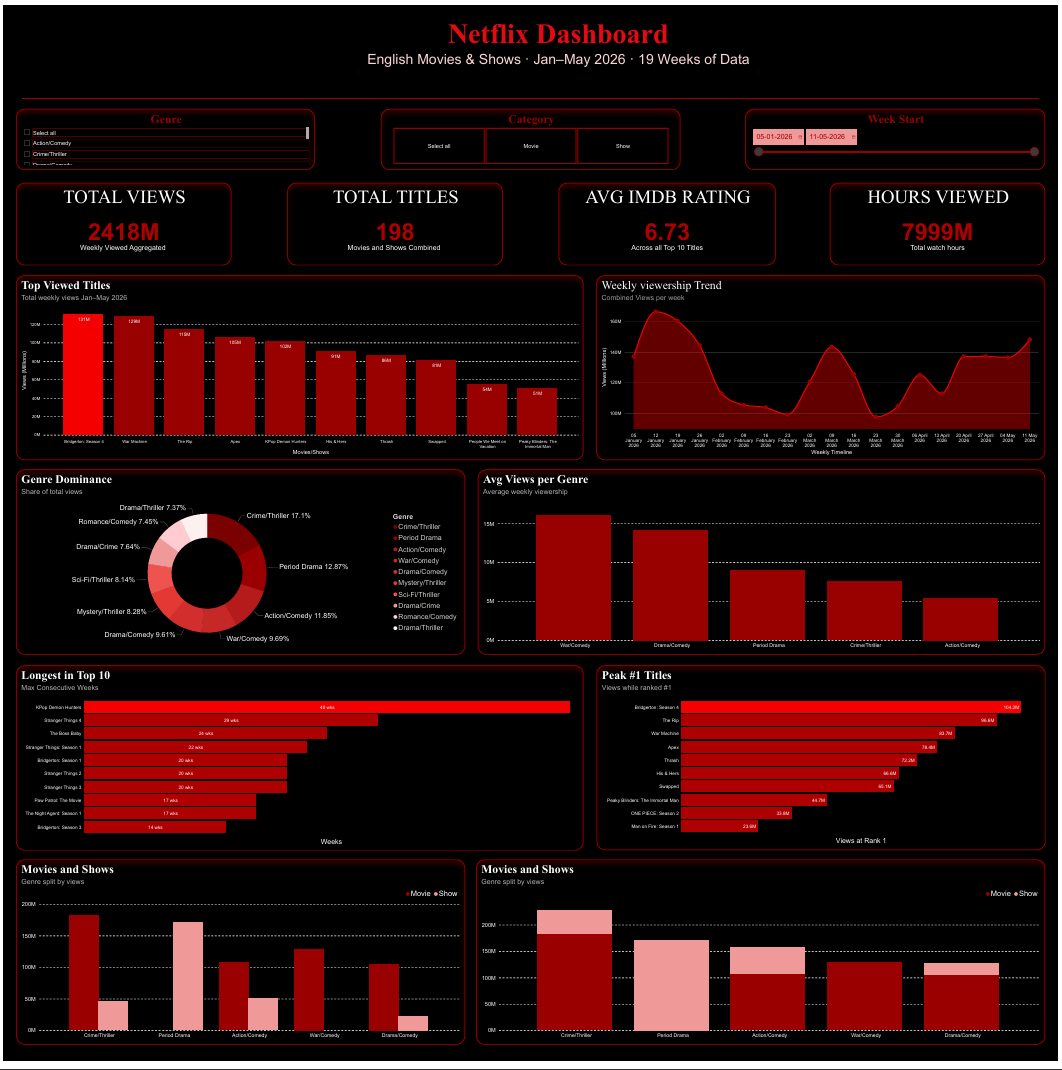

What the dashboard file says about the page in this screenshot:
{"tool":"powerbi","page":{"name":"Page 1","canvas":[3000,3000],"ordinal":0},"visuals":[{"type":"columnChart","title":"Top Viewed Titles ","fields":{"Category":["Table 1 (Pivot_Table).Row Labels"],"Y":["Sum(Table 1 (Pivot_Table).Sum of Weekly_Viewed)"]},"box":[35.8,766.9,1615.6,526.6],"z":0},{"type":"lineChart","title":"Weekly viewership Trend","fields":{"Y":["Sum(Master_Data.Weekly_Viewed)"],"Category":["Master_Data.Week_Start"]},"box":[1687.1,766.9,1278.1,526.6],"z":1000},{"type":"card","title":"TOTAL VIEWS","fields":{"Values":["Sum(Master_Data.Weekly_Viewed)"]},"box":[35.8,503.7,613.5,235.2],"z":2000},{"type":"card","title":"TOTAL TITLES","fields":{"Values":["Count(Master_Data.Title)"]},"box":[807.8,503.7,613.5,235.2],"z":3000},{"type":"card","title":"AVG IMDB RATING","fields":{"Values":["Avg(Master_Data.Imdb_Rating)"]},"box":[1579.8,503.7,618.6,235.2],"z":4000},{"type":"card","title":"HOURS VIEWED","fields":{"Values":["Sum(Master_Data.Hours_Viewed)"]},"box":[2351.8,503.7,613.5,235.2],"z":5000},{"type":"barChart","title":"Longest in Top 10","fields":{"Category":["Table 2 (Pivot_Table).Row Labels"],"Y":["Sum(Table 2 (Pivot_Table).Max of Weeks_In_Top10)"]},"box":[35.8,1876.3,1615.6,526.6],"z":6000},{"type":"barChart","title":"Peak #1 Titles","fields":{"Y":["Master_Data.Views At Rank 1"],"Category":["Master_Data.Title"]},"box":[1688,1876,1278,526],"z":7000},{"type":"slicer","title":"Category ","fields":{"Values":["Master_Data.Category"]},"box":[1073.6,294.1,853.8,173.8],"z":8000},{"type":"columnChart","title":"Movies and Shows","fields":{"Category":["Master_Data.Genre"],"Y":["Sum(Master_Data.Weekly_Viewed)"],"Series":["Master_Data.Category"]},"box":[1344.6,2428.4,1620.7,526.6],"z":9000},{"type":"columnChart","title":"Avg Views per Genre","fields":{"Category":["Master_Data.Genre"],"Y":["Avg(Master_Data.Weekly_Viewed)"]},"box":[1349.7,1319,1615.6,526.6],"z":10000},{"type":"clusteredColumnChart","title":"Movies and Shows","fields":{"Category":["Master_Data.Genre"],"Y":["Sum(Master_Data.Weekly_Viewed)"],"Series":["Master_Data.Category"]},"box":[35.8,2428.4,1278.1,526.6],"z":11000},{"type":"slicer","title":"Genre","fields":{"Values":["Master_Data.Genre"]},"box":[36,294,850,174],"z":12000},{"type":"slicer","title":"Week Start","fields":{"Values":["Master_Data.Week_Start"]},"box":[2111.5,294.1,853.8,173.8],"z":13000},{"type":"donutChart","title":"Genre Dominance","fields":{"Category":["Master_Data.Genre"],"Y":["Sum(Master_Data.Weekly_Viewed)"]},"box":[35.8,1319,1278.1,526.6],"z":14000},{"type":"textbox","title":"Netflix Dashboard","box":[1007.2,30.7,1145.2,184.1],"z":15000},{"type":"textbox","title":"__________________________________________________________________________________","box":[35.8,199.4,2929.5,66.5],"z":16000}]}

Visuals, with their boxes in screenshot pixels (x1, y1, x2, y2), scaled from the page's 3000x3000 canvas onto the 1062x1070 screenshot:
"Top Viewed Titles " columnChart: <box>13,274,585,461</box>
"Weekly viewership Trend" lineChart: <box>597,274,1050,461</box>
"TOTAL VIEWS" card: <box>13,180,230,264</box>
"TOTAL TITLES" card: <box>286,180,503,264</box>
"AVG IMDB RATING" card: <box>559,180,778,264</box>
"HOURS VIEWED" card: <box>833,180,1050,264</box>
"Longest in Top 10" barChart: <box>13,669,585,857</box>
"Peak #1 Titles" barChart: <box>598,669,1050,857</box>
"Category " slicer: <box>380,105,682,167</box>
"Movies and Shows" columnChart: <box>476,866,1050,1054</box>
"Avg Views per Genre" columnChart: <box>478,470,1050,658</box>
"Movies and Shows" clusteredColumnChart: <box>13,866,465,1054</box>
"Genre" slicer: <box>13,105,314,167</box>
"Week Start" slicer: <box>747,105,1050,167</box>
"Genre Dominance" donutChart: <box>13,470,465,658</box>
"Netflix Dashboard" textbox: <box>357,11,762,77</box>
"__________________________________________________________________________________" textbox: <box>13,71,1050,95</box>
